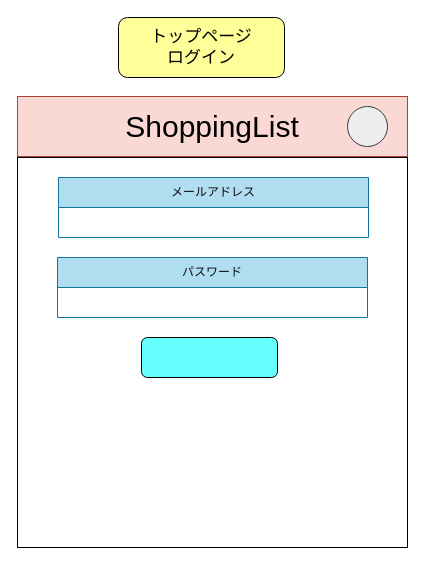
The diagram is 425 pixels wide and 565 high, and some of its shapes have lost their labels. Here are the shapes that lost their labels. From the top down, the centre of each, then its label:
At (x=367, y=126): "新規 登録".
At (x=209, y=357): "サインイン".
